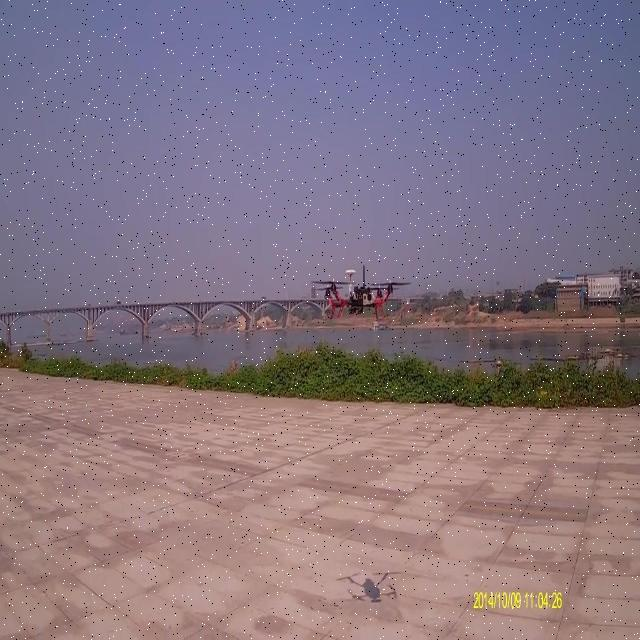UAV: (317, 266, 401, 324)
